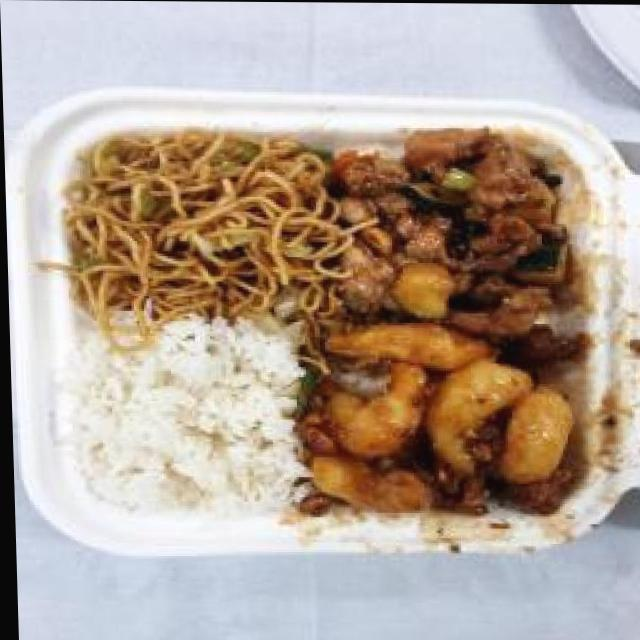Chow Mein: (61, 125, 341, 325)
Honey Walnut Shrimp: (291, 327, 588, 528)
Kung Pao Chicken: (335, 130, 588, 344)
White Steamed Rice: (66, 323, 303, 515)
